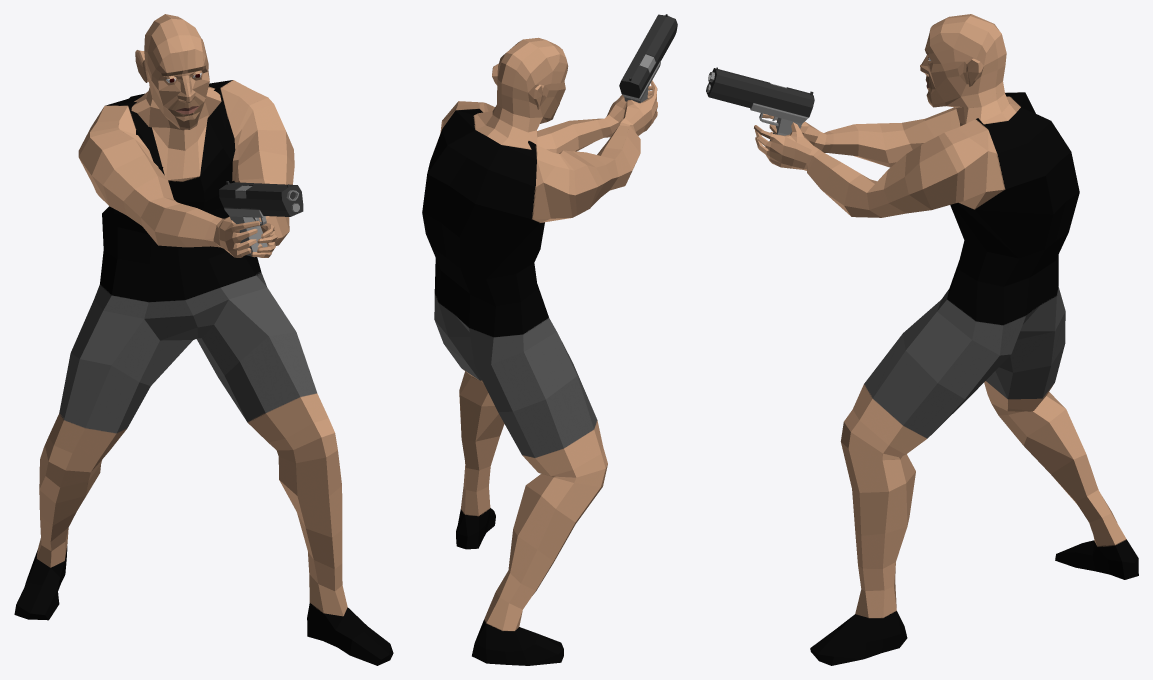
Rendered from PlayerShoot(12).obj.
3 views of the same model, side by side, from view 1: azimuth 30°, elevation 25°; view 2: azimuth 150°, elevation 25°; view 3: azimuth 270°, elevation 25° (orthographic). The views are drawn at different scales.
Visible parts, largest first — view 1: Plane002, Box003; view 2: Plane002, Box003; view 3: Plane002, Box003.
Part boxes in pixels (x1,y1,x2,y2): Plane002: (14,14,393,665); Box003: (219,181,303,257); Plane002: (422,37,657,665); Box003: (619,14,677,103); Plane002: (754,14,1138,665); Box003: (706,67,814,140).
Size of the model in its own units: 716 by 1675 by 1129.
